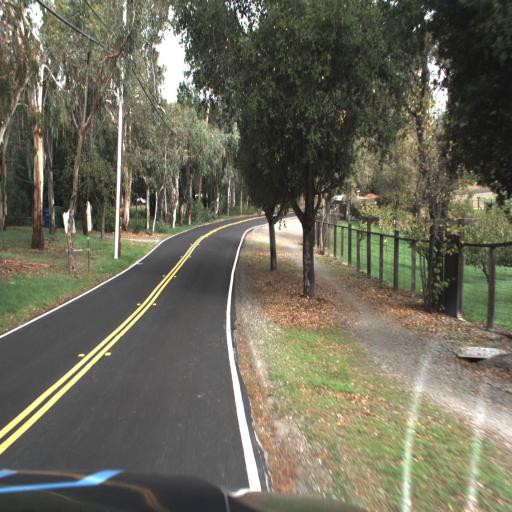car: (331, 184, 351, 208)
